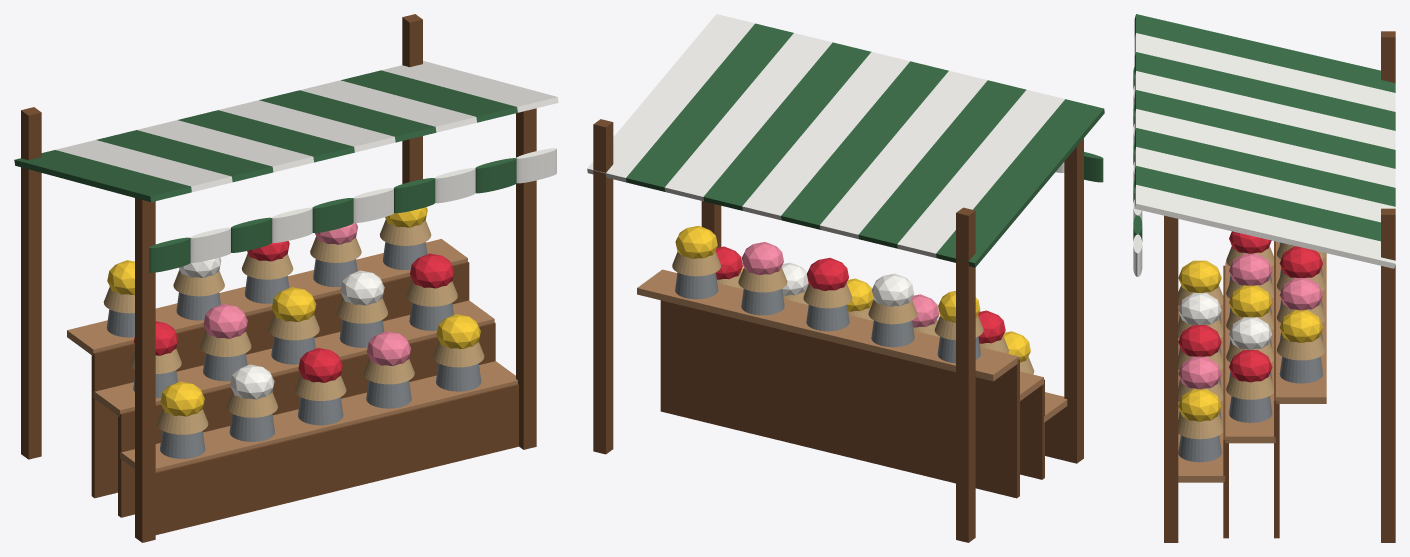
Rendered from market-stall-flowers.glb.
The picture shows the model from 3 angles, left to right: view 1: azimuth 30°, elevation 25°; view 2: azimuth 150°, elevation 25°; view 3: azimuth 270°, elevation 25°; orthographic projection. The views are drawn at different scales.
Visible parts, largest first — view 1: Cube.005, Cube.009, Cube.001, Cube, Cube.007, Cube.002, Cube.004, Cube.008, Cube.006, Cube.010, Cube.014, Cube.015 (+56 smaller); view 2: Cube.009, Cube.014, Cube.017, Cube.018, Cube.012, Cube.015, Cube.016, Cube.013, Cube.010, Cube.011, Cube.008, Cube.019 (+23 smaller); view 3: Cube.019, Cube.013, Cube.012, Cube.014, Cube.011, Cube.016, Cube.015, Cube.010, Cube.017, Cube.003, Cube.002, Cube.018 (+31 smaller).
Part boxes in pixels (x1,y1,x2,y2): Cube.005: [155, 384, 518, 534]; Cube.009: [91, 262, 469, 498]; Cube.001: [21, 107, 41, 459]; Cube: [135, 198, 155, 542]; Cube.007: [118, 322, 495, 517]; Cube.002: [516, 108, 536, 449]; Cube.004: [120, 361, 517, 471]; Cube.008: [67, 239, 467, 355]; Cube.006: [93, 300, 494, 416]; Cube.010: [14, 150, 191, 202]; Cube.014: [178, 110, 354, 162]; Cube.015: [218, 100, 395, 152]; Cube.009: [660, 300, 1019, 498]; Cube.014: [781, 61, 948, 229]; Cube.017: [664, 33, 832, 201]; Cube.018: [626, 23, 793, 191]; Cube.012: [858, 80, 1025, 248]; Cube.015: [742, 52, 909, 220]; Cube.016: [703, 42, 871, 210]; Cube.013: [819, 71, 987, 239]; Cube.010: [936, 99, 1104, 267]; Cube.011: [897, 89, 1064, 257]; Cube.008: [637, 269, 1018, 381]; Cube.019: [587, 14, 754, 182]; Cube.019: [1134, 185, 1395, 268]; Cube.013: [1134, 71, 1395, 149]; Cube.012: [1134, 52, 1395, 130]; Cube.014: [1134, 90, 1395, 168]; Cube.011: [1134, 33, 1395, 111]; Cube.016: [1134, 128, 1395, 206]; Cube.015: [1134, 109, 1395, 187]; Cube.010: [1134, 14, 1395, 92]; Cube.017: [1134, 147, 1395, 222]; Cube.003: [1381, 208, 1395, 542]; Cube.002: [1164, 215, 1178, 542]; Cube.018: [1134, 166, 1380, 241].
Bounding box in the file's own units: 3.1 × 2.61 × 1.81.
